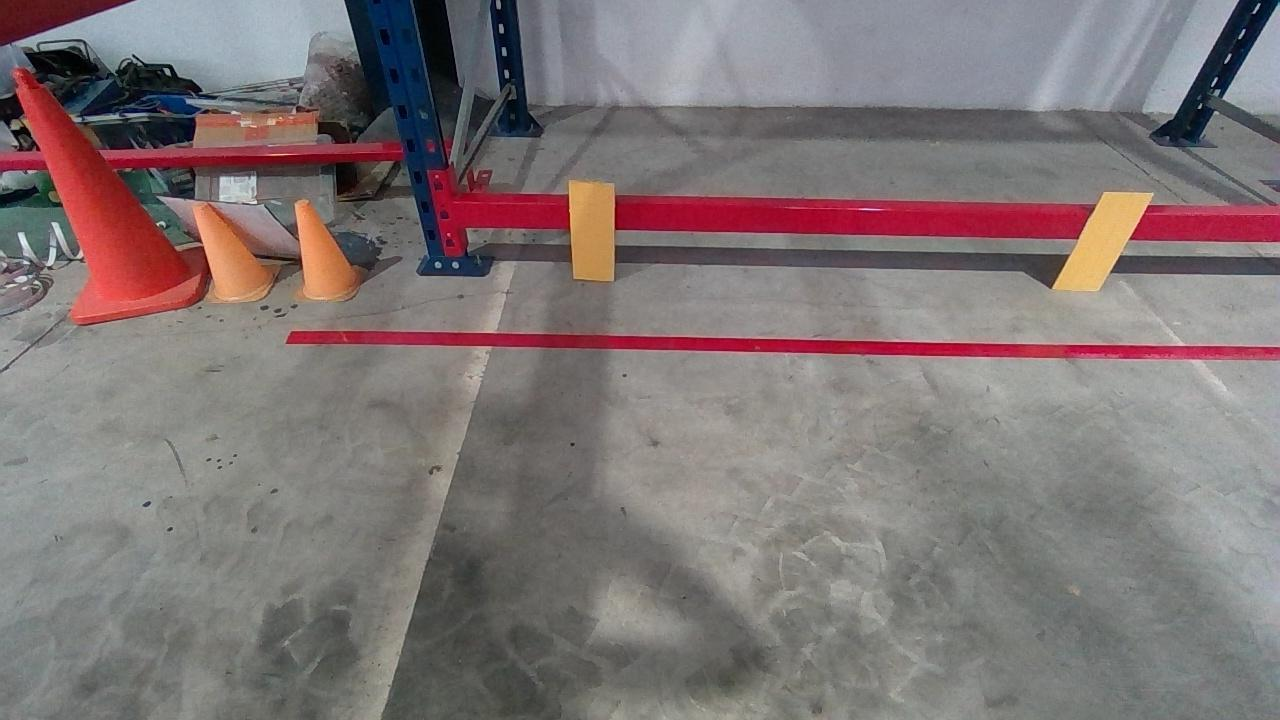h_rack: (460, 197, 1278, 246)
orange_strip: (1050, 190, 1156, 290), (568, 180, 616, 281)
red_line: (287, 328, 1279, 360)
